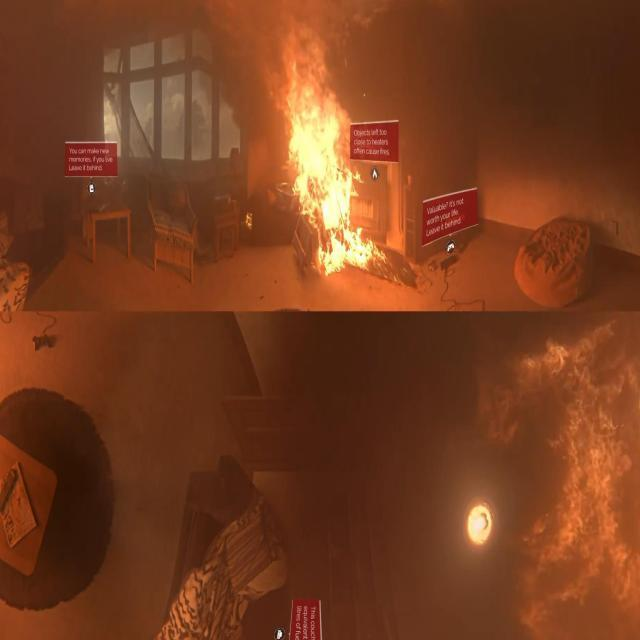smoke: (286, 56, 395, 282)
